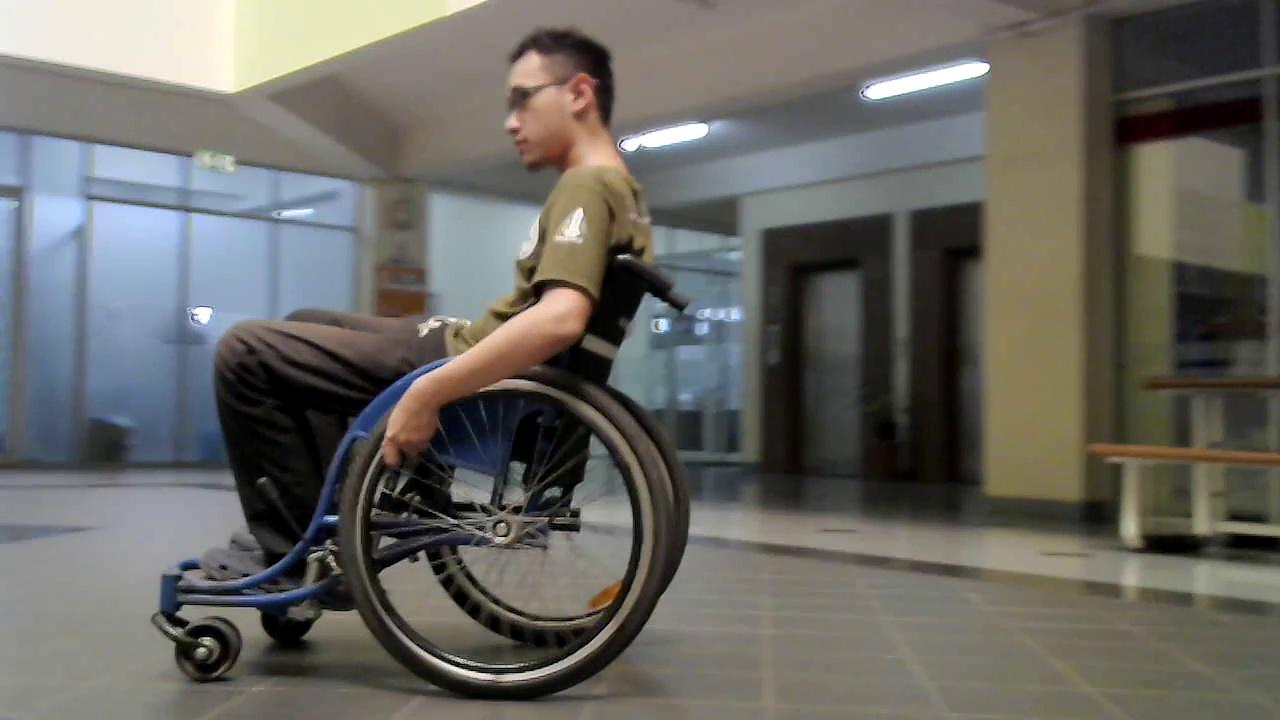person: (211, 27, 656, 590)
wheelchair: (109, 247, 730, 709)
